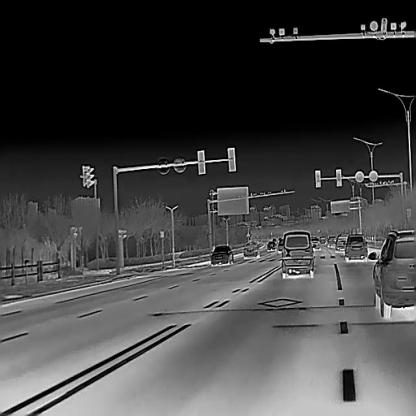car: (368, 228, 416, 318), (280, 228, 316, 278), (342, 232, 367, 260), (210, 244, 234, 265), (242, 240, 260, 258), (334, 233, 350, 250), (309, 235, 321, 249), (326, 234, 336, 247), (266, 239, 276, 249), (277, 238, 284, 250), (318, 235, 326, 243), (272, 236, 276, 242)
